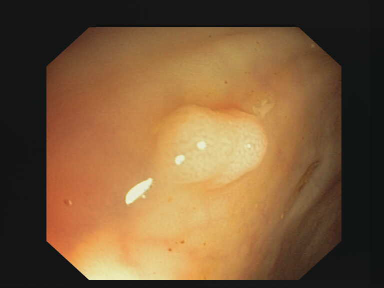polyp: (138, 66, 282, 207)
